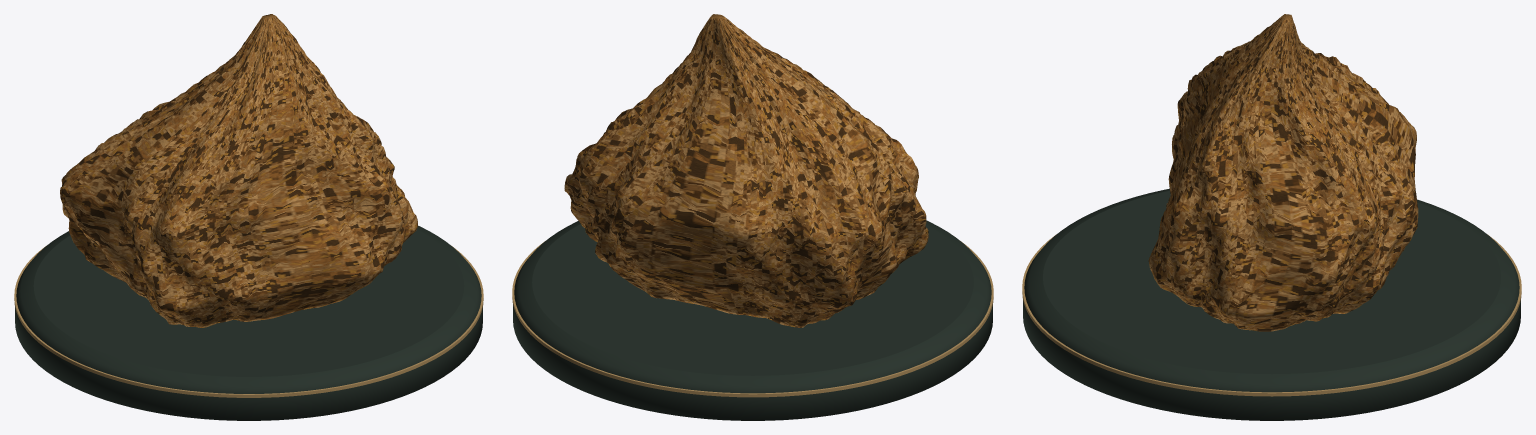
File: lingstone-concept-02-v191-cdc0620a9803.glb
3 views of the same model, side by side, from view 1: azimuth 30°, elevation 25°; view 2: azimuth 150°, elevation 25°; view 3: azimuth 270°, elevation 25° (orthographic). The views are drawn at different scales.
Parts seen in each view (by area): view 1: XY-CONCEPT-002 concept stone, Centered beveled display plinth, Champagne gold edge; view 2: XY-CONCEPT-002 concept stone, Centered beveled display plinth, Champagne gold edge; view 3: Centered beveled display plinth, XY-CONCEPT-002 concept stone, Champagne gold edge.
Part boxes in pixels (x1,y1,x2,y2): XY-CONCEPT-002 concept stone: (60, 14, 417, 327); Centered beveled display plinth: (15, 226, 482, 420); Champagne gold edge: (14, 245, 483, 397); XY-CONCEPT-002 concept stone: (564, 14, 928, 327); Centered beveled display plinth: (513, 220, 992, 420); Champagne gold edge: (512, 241, 993, 397); Centered beveled display plinth: (1023, 188, 1520, 420); XY-CONCEPT-002 concept stone: (1148, 14, 1418, 331); Champagne gold edge: (1022, 234, 1521, 396).
Bounding box in the file's own units: 2.06 × 1.45 × 2.06.
Materials: 3 (1 with a texture image).
